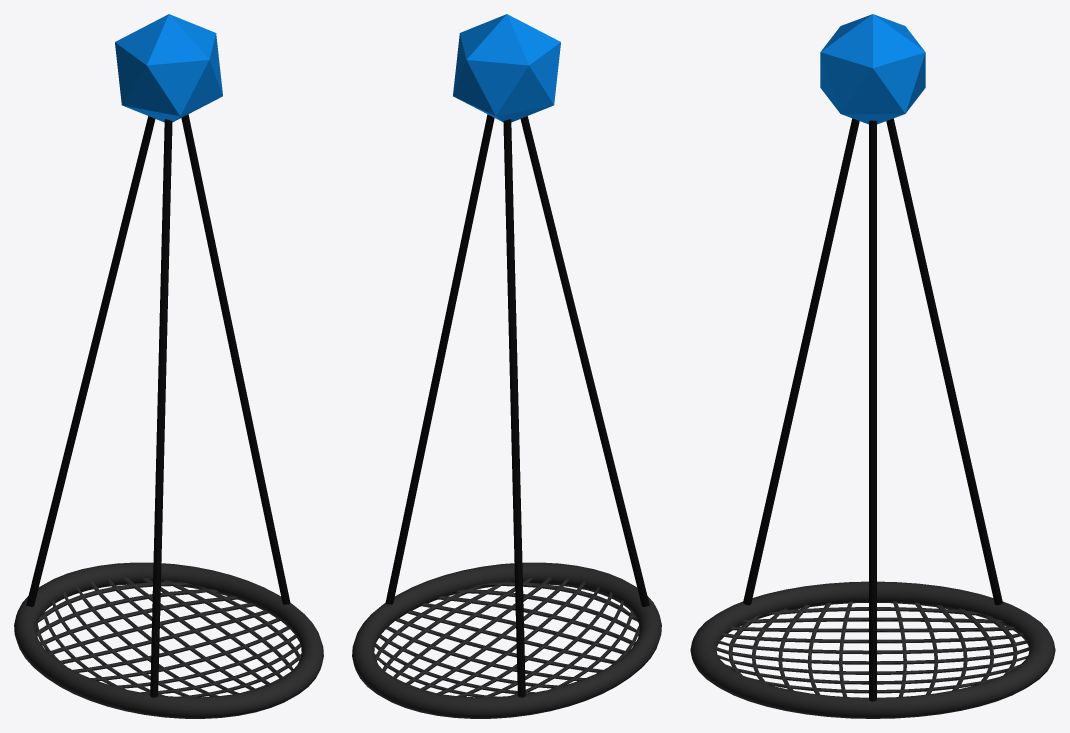
The model's file is Bird nest swing 8ft.glb.
3 renders of one model, left to right at view 1: azimuth 30°, elevation 25°; view 2: azimuth 150°, elevation 25°; view 3: azimuth 270°, elevation 25°, orthographic.
Parts seen in each view (by area): view 1: Torus.009, Cylinder.013, Torus.010, Joint.039; view 2: Torus.009, Cylinder.013, Torus.010, Joint.039; view 3: Torus.009, Cylinder.013, Torus.010, Joint.039.
Part boxes in pixels (left/top/right/bottom): Torus.009: left=14, top=562, right=323, bottom=718; Cylinder.013: left=26, top=114, right=290, bottom=697; Torus.010: left=36, top=577, right=301, bottom=697; Joint.039: left=115, top=14, right=222, bottom=122; Torus.009: left=352, top=562, right=661, bottom=718; Cylinder.013: left=385, top=114, right=649, bottom=697; Torus.010: left=374, top=577, right=639, bottom=697; Joint.039: left=453, top=14, right=560, bottom=122; Torus.009: left=690, top=581, right=1055, bottom=718; Cylinder.013: left=743, top=118, right=1002, bottom=701; Torus.010: left=715, top=601, right=1030, bottom=696; Joint.039: left=820, top=14, right=925, bottom=124.
Bounding box in the file's own units: 0.7302 × 1.77 × 0.9005.
